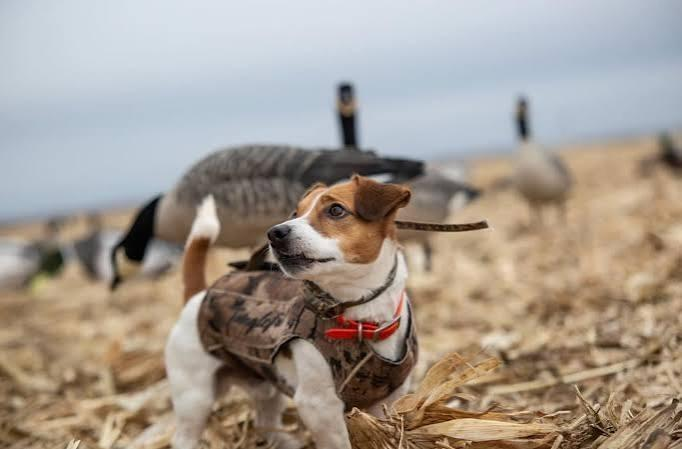adult_dog: (164, 175, 421, 449)
non-dog: (102, 78, 427, 296), (372, 167, 483, 274), (506, 97, 575, 239), (633, 132, 682, 204)
